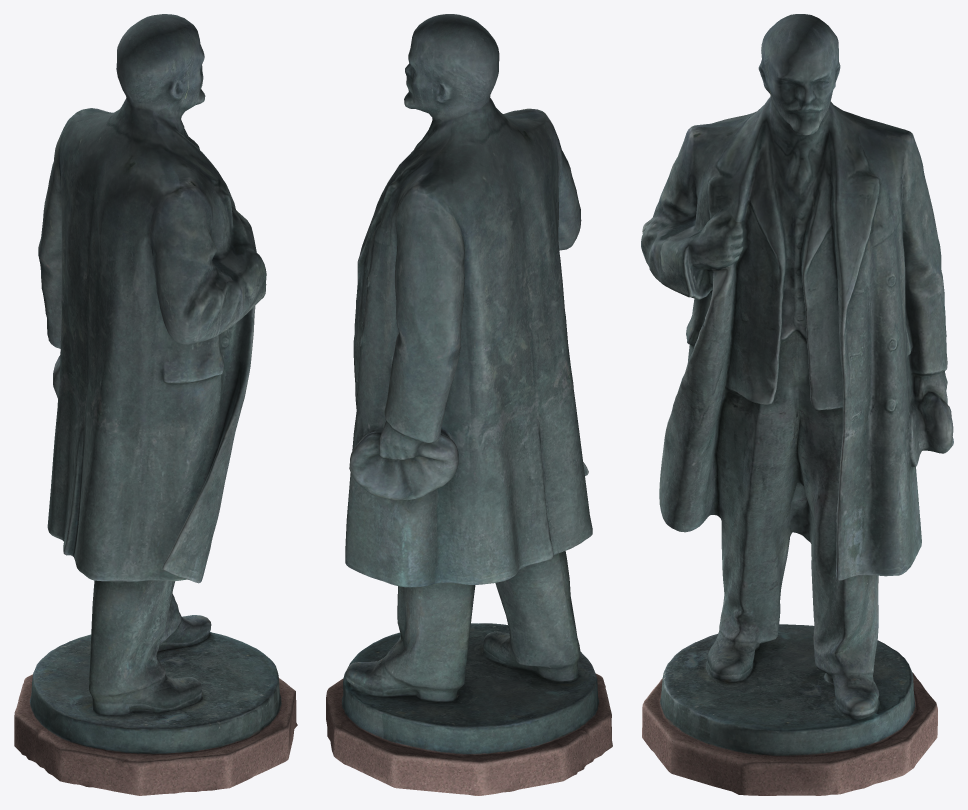
File: tartu_lenin_statue_bronze_1952._low-poly_pbr.fbx
3 views of the same model, side by side, from view 1: azimuth 30°, elevation 25°; view 2: azimuth 150°, elevation 25°; view 3: azimuth 270°, elevation 25° (orthographic).
Visible parts, largest first — view 1: obj1; view 2: obj1; view 3: obj1.
Boxes of the visible parts, x1,y1,x2,y2 form: obj1: [14, 14, 297, 795]; obj1: [326, 14, 612, 795]; obj1: [641, 14, 953, 795].
Bounding box in the file's own units: 14139 × 39952 × 15665.
Materials: 1 (1 with a texture image).
